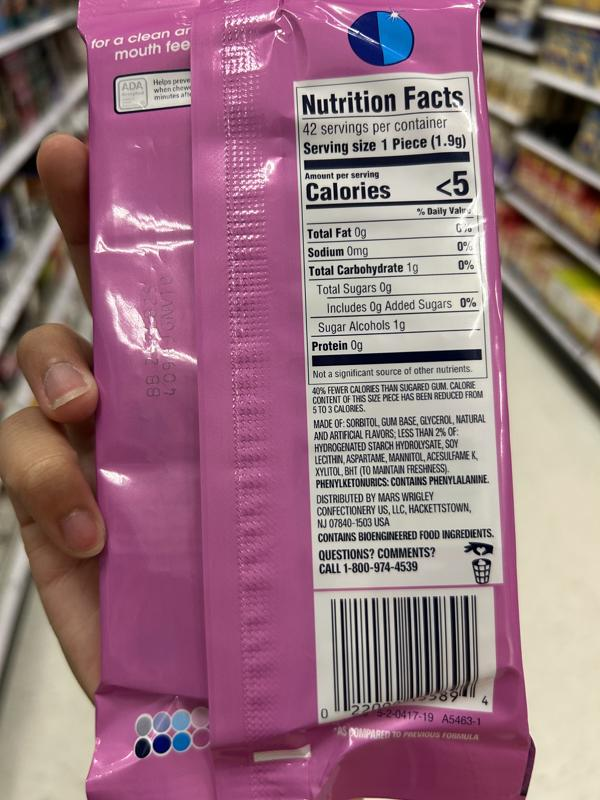ingredients: (311, 413, 487, 477)
